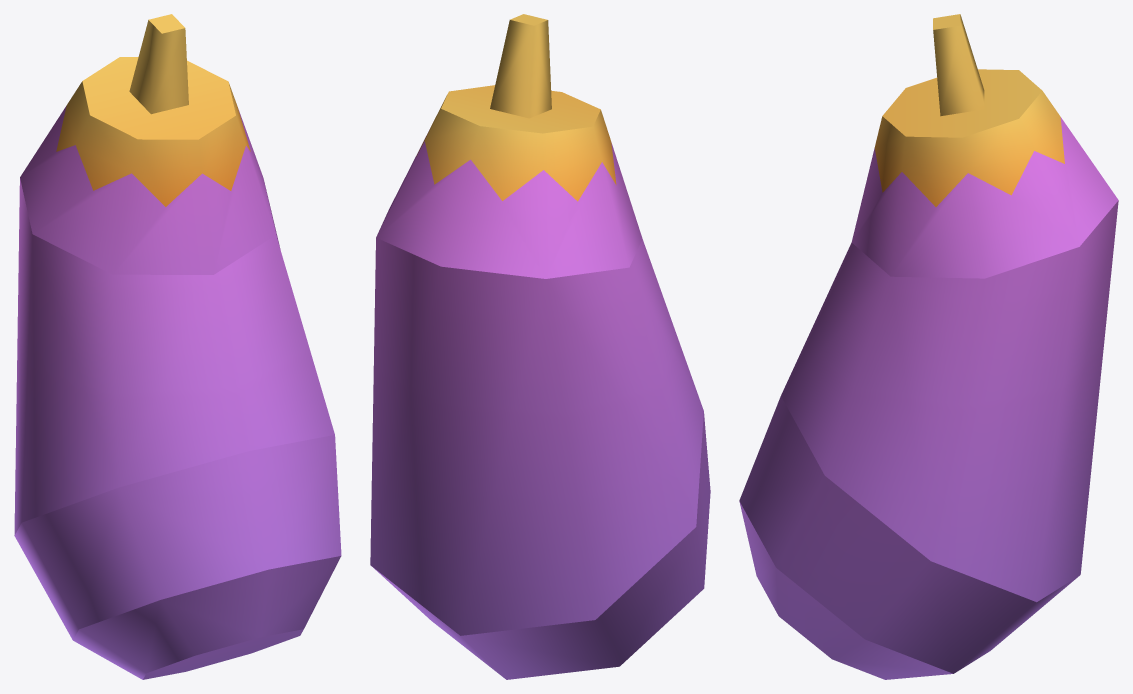
Rendered from eggplant.glb.
The picture shows the model from 3 angles, left to right: view 1: azimuth 30°, elevation 25°; view 2: azimuth 150°, elevation 25°; view 3: azimuth 270°, elevation 25°; orthographic projection. The views are drawn at different scales.
Visible parts, largest first — view 1: eggplant; view 2: eggplant; view 3: eggplant.
Part boxes in pixels (x1=…): eggplant: x1=14, y1=14, x2=341, y2=679; eggplant: x1=370, y1=14, x2=710, y2=679; eggplant: x1=739, y1=14, x2=1118, y2=679.
Size of the model in its own units: 0.204 by 0.4052 by 0.2156.
Materials: 1 (1 with a texture image).
